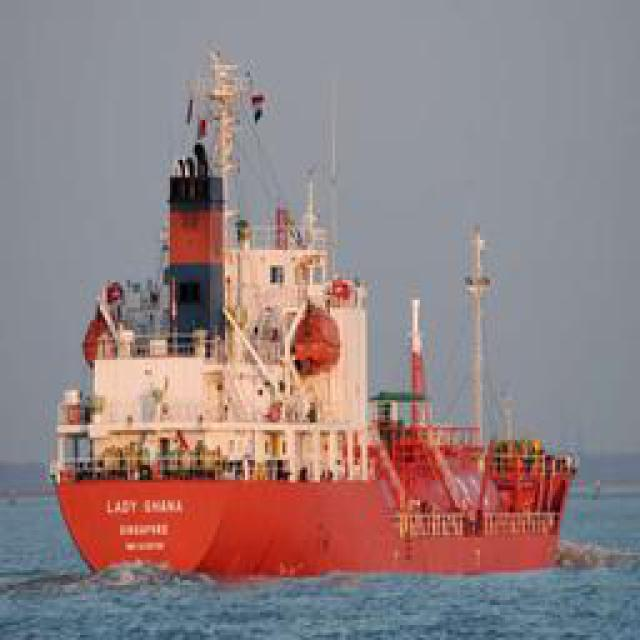Ship: (47, 35, 577, 590)
